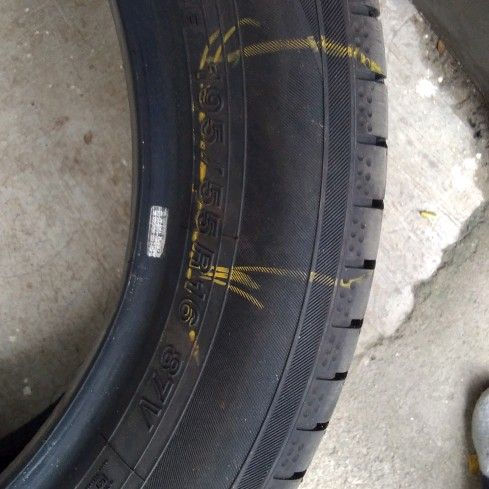CBU: (229, 108, 334, 241)
